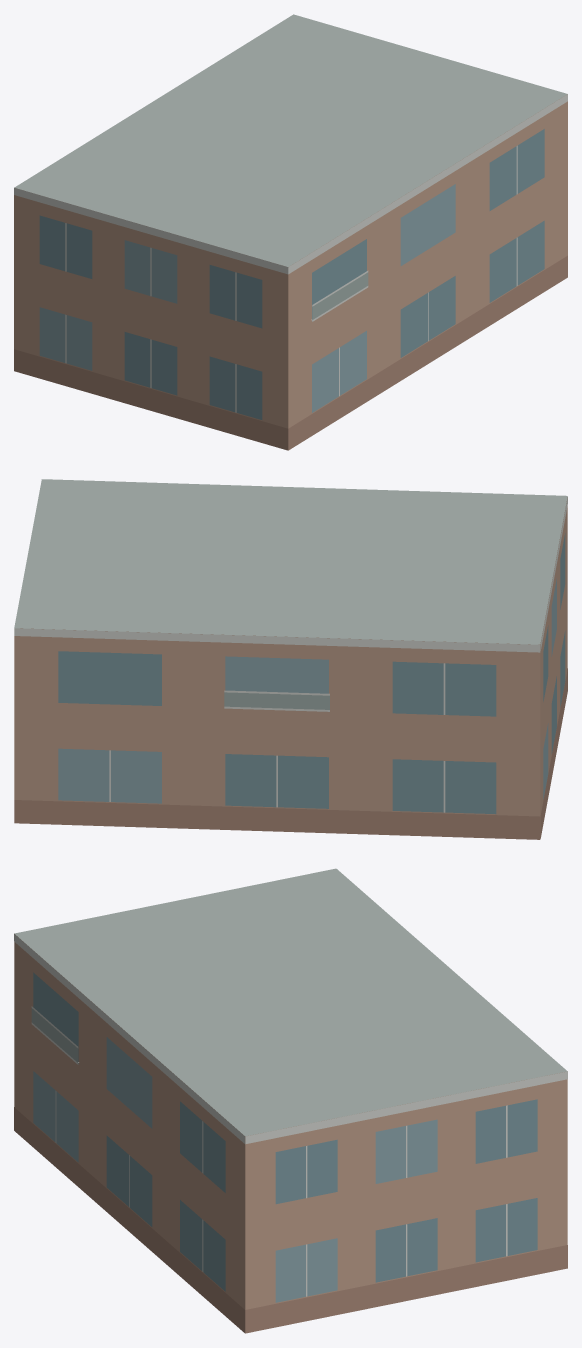
File: survey-upis-32705599.glb
3 renders of one model, top to bottom at view 1: azimuth 30°, elevation 25°; view 2: azimuth 150°, elevation 25°; view 3: azimuth 270°, elevation 25°, orthographic. The views are drawn at different scales.
Parts seen in each view (by area): view 1: survey-upis-32705599.tmp; view 2: survey-upis-32705599.tmp; view 3: survey-upis-32705599.tmp.
Boxes of the visible parts, x1,y1,x2,y2 form: survey-upis-32705599.tmp: (14, 14, 567, 450); survey-upis-32705599.tmp: (14, 479, 567, 839); survey-upis-32705599.tmp: (14, 868, 567, 1333).
Bounding box in the file's own units: 17.8 × 6.1 × 15.54.
